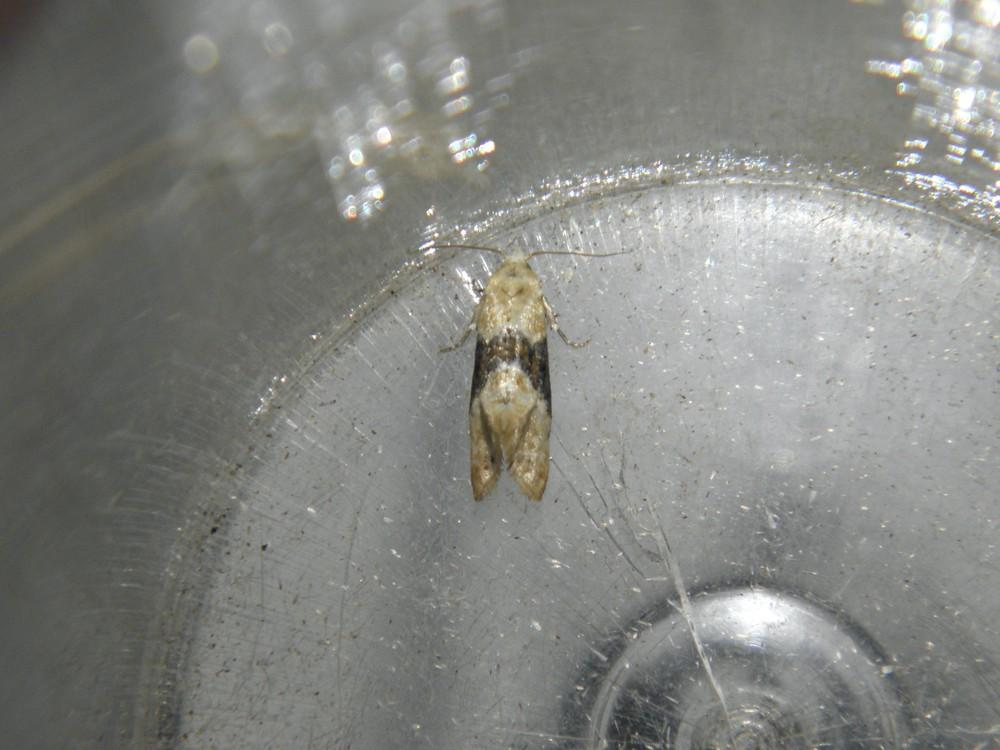Eupoecilia Ambiguella: (418, 235, 633, 505)
